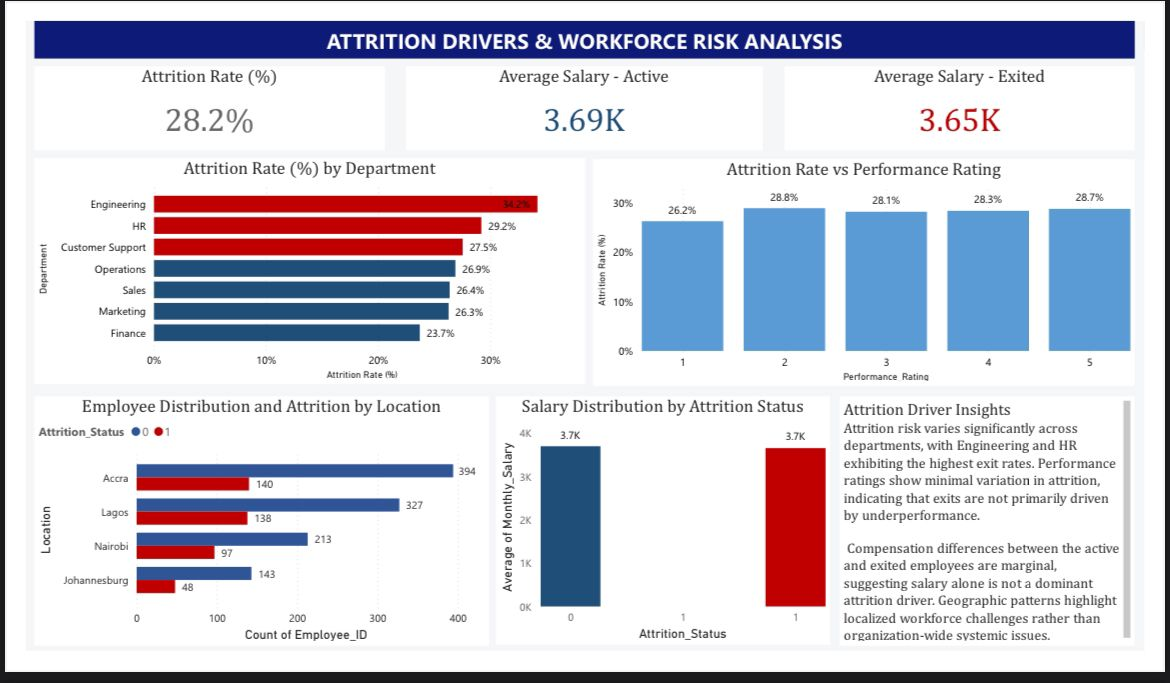

This screenshot's page, from the dashboard's own definition file:
{"tool":"powerbi","page":{"name":"Attrition Drivers Analysis","canvas":[1280,720],"ordinal":1},"visuals":[{"type":"textbox","box":[9.7,0,1259.5,43.4],"z":0},{"type":"card","title":"Attrition Rate (%)","fields":{"Values":["HR_Analytics_Attrition_Retention.Attrition Rate (%)"]},"box":[9.5,52.4,401.2,95.2],"z":1},{"type":"card","title":"Average Salary - Active","fields":{"Values":["HR_Analytics_Attrition_Retention.Avg Salary - Active"]},"box":[434.5,52.4,408.3,95.2],"z":2},{"type":"card","title":"Average Salary - Exited","fields":{"Values":["HR_Analytics_Attrition_Retention.Avg Salary- Exited"]},"box":[867.9,52.4,401.2,95.2],"z":3},{"type":"barChart","fields":{"Category":["HR_Analytics_Attrition_Retention.Department"],"Y":["HR_Analytics_Attrition_Retention.Attrition Rate (%)"]},"box":[9.5,157.1,631,258.3],"z":4},{"type":"columnChart","title":"Attrition Rate vs Performance Rating","fields":{"Category":["HR_Analytics_Attrition_Retention.Performance_Rating"],"Y":["HR_Analytics_Attrition_Retention.Attrition Rate (%)"]},"box":[648.8,158.3,620.2,258.3],"z":5},{"type":"columnChart","title":"Salary Distribution by Attrition Status","fields":{"Category":["HR_Analytics_Attrition_Retention.Attrition_Status"],"Y":["Avg(HR_Analytics_Attrition_Retention.Monthly_Salary)"]},"box":[538.1,428.6,382.1,284.5],"z":7},{"type":"textbox","box":[931,428.6,338.1,285.7],"z":8},{"type":"clusteredBarChart","title":"Employee Distribution and Attrition by Location","fields":{"Category":["HR_Analytics_Attrition_Retention.Location"],"Series":["HR_Analytics_Attrition_Retention.Attrition_Status"],"Y":["CountNonNull(HR_Analytics_Attrition_Retention.Employee_ID)"]},"box":[9.5,428.6,520.2,285.7],"z":9}]}

Visuals, with their boxes on the page's 1280x720 design canvas (x1, y1, x2, y2). These are canvas units, not pixel positions in the 1170x683 screenshot, which may show the page scaled, cropped or inside an application window:
textbox: 10, 0, 1269, 43
"Attrition Rate (%)" card: 10, 52, 411, 148
"Average Salary - Active" card: 434, 52, 843, 148
"Average Salary - Exited" card: 868, 52, 1269, 148
barChart - HR_Analytics_Attrition_Retention.Department x HR_Analytics_Attrition_Retention.Attrition Rate (%): 10, 157, 640, 415
"Attrition Rate vs Performance Rating" columnChart: 649, 158, 1269, 417
"Salary Distribution by Attrition Status" columnChart: 538, 429, 920, 713
textbox: 931, 429, 1269, 714
"Employee Distribution and Attrition by Location" clusteredBarChart: 10, 429, 530, 714
